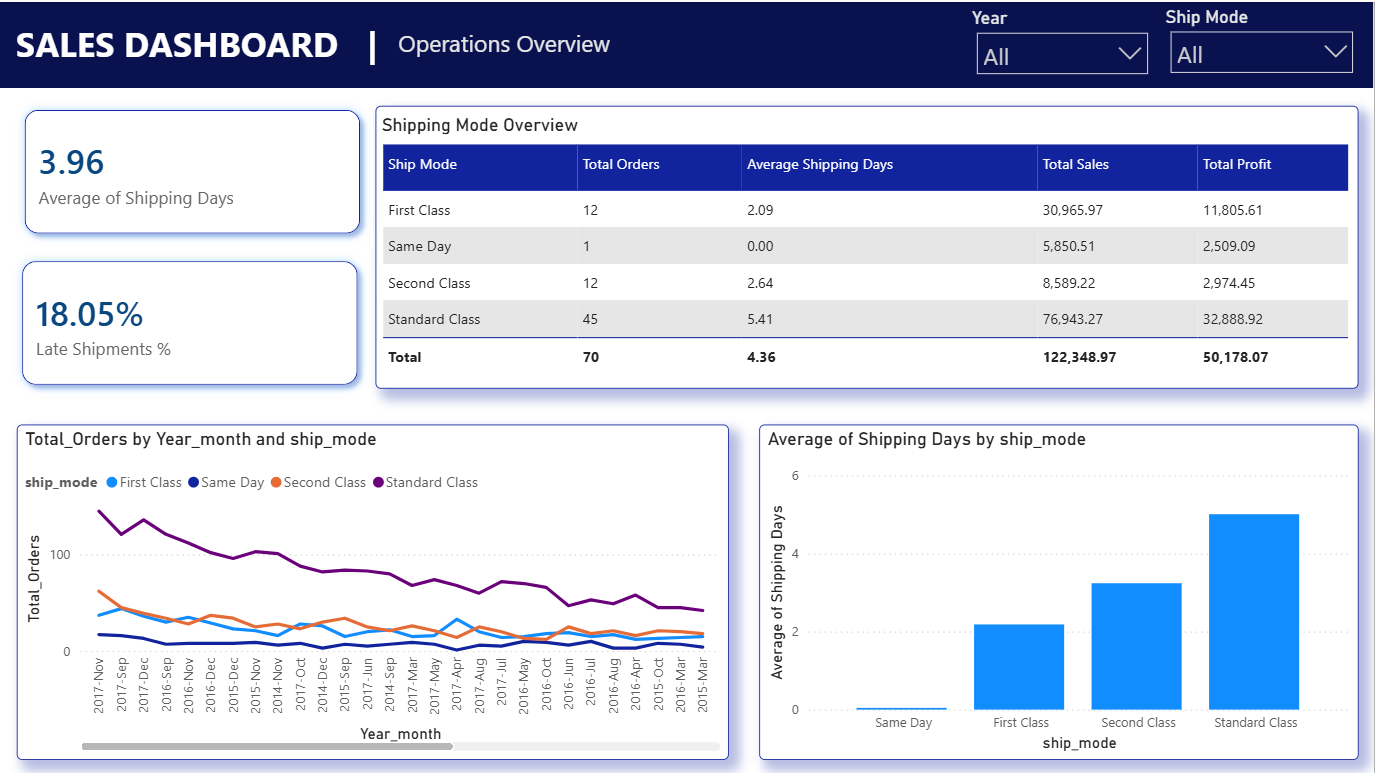

Layout of this report page (visuals, bound fields, positions):
{"tool":"powerbi","page":{"name":"Operations","canvas":[1280,720],"ordinal":3},"visuals":[{"type":"shape","box":[0,0,1279.5,80],"z":0},{"type":"textbox","box":[11.2,11.2,375.4,55.9],"z":1000},{"type":"textbox","box":[368,19,348.7,43.6],"z":2000},{"type":"slicer","title":"Year","fields":{"Values":["Dim_Date.Year"]},"box":[906.1,4.9,168.8,67.3],"z":3000},{"type":"slicer","title":"Ship Mode","fields":{"Values":["Fact_Orders.ship_mode"]},"box":[1085.9,3.7,179.8,75.8],"z":4000},{"type":"tableEx","title":"Shipping Mode Overview","fields":{"Values":["Fact_Orders.ship_mode","Fact_Orders.Total_Orders","Avg(Fact_Orders.Shipping Days)","Fact_Orders.Total_Sales","Fact_Orders.Total_Profit"]},"box":[351,96.6,914.7,262.9],"z":5000},{"type":"cardVisual","title":"Total Sales","fields":{"Data":["Avg(Fact_Orders.Shipping Days)"]},"box":[12.2,88,336.3,139],"z":5001},{"type":"cardVisual","title":"Total Sales","fields":{"Data":["Fact_Orders.Late Shipments %"]},"box":[11,228.7,336.3,139.4],"z":5002},{"type":"clusteredColumnChart","fields":{"Category":["Fact_Orders.ship_mode"],"Y":["Avg(Fact_Orders.Shipping Days)"]},"box":[708,392.5,557.6,311.8],"z":5004},{"type":"lineChart","fields":{"Category":["Dim_Date.Year_month"],"Y":["Fact_Orders.Total_Orders"],"Series":["Fact_Orders.ship_mode"]},"box":[17.1,392.5,662.8,311.8],"z":5005}]}

Visuals, with their boxes in screenshot pixels (x1, y1, x2, y2), scaled from the page's 1280x720 canvas onto the 1375x773 screenshot:
shape: [left=0, top=0, right=1374, bottom=86]
textbox: [left=12, top=12, right=415, bottom=72]
textbox: [left=395, top=20, right=770, bottom=67]
"Year" slicer: [left=973, top=5, right=1155, bottom=78]
"Ship Mode" slicer: [left=1166, top=4, right=1360, bottom=85]
"Shipping Mode Overview" tableEx: [left=377, top=104, right=1360, bottom=386]
"Total Sales" cardVisual: [left=13, top=94, right=374, bottom=244]
"Total Sales" cardVisual: [left=12, top=246, right=373, bottom=395]
clusteredColumnChart - Fact_Orders.ship_mode x Avg(Fact_Orders.Shipping Days): [left=761, top=421, right=1360, bottom=756]
lineChart - Dim_Date.Year_month x Fact_Orders.Total_Orders: [left=18, top=421, right=730, bottom=756]
